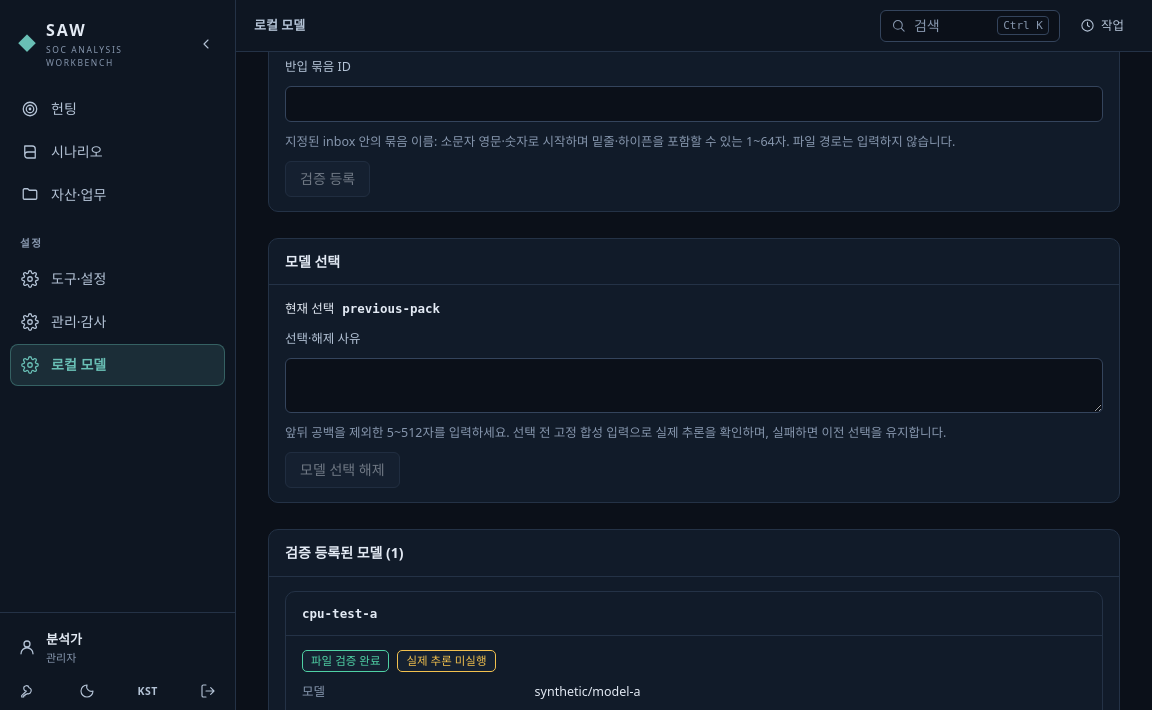
it: keeps the previous selection when the activation probe is rejected
(page scrolled)
expect the text "cpu-test-a" is shown: met, box [302, 606, 377, 621]
Type "실패 경로 확인" into the text box labelled "선택·해제 사유" at (694, 386), box [285, 358, 1103, 413]
(page scrolled)
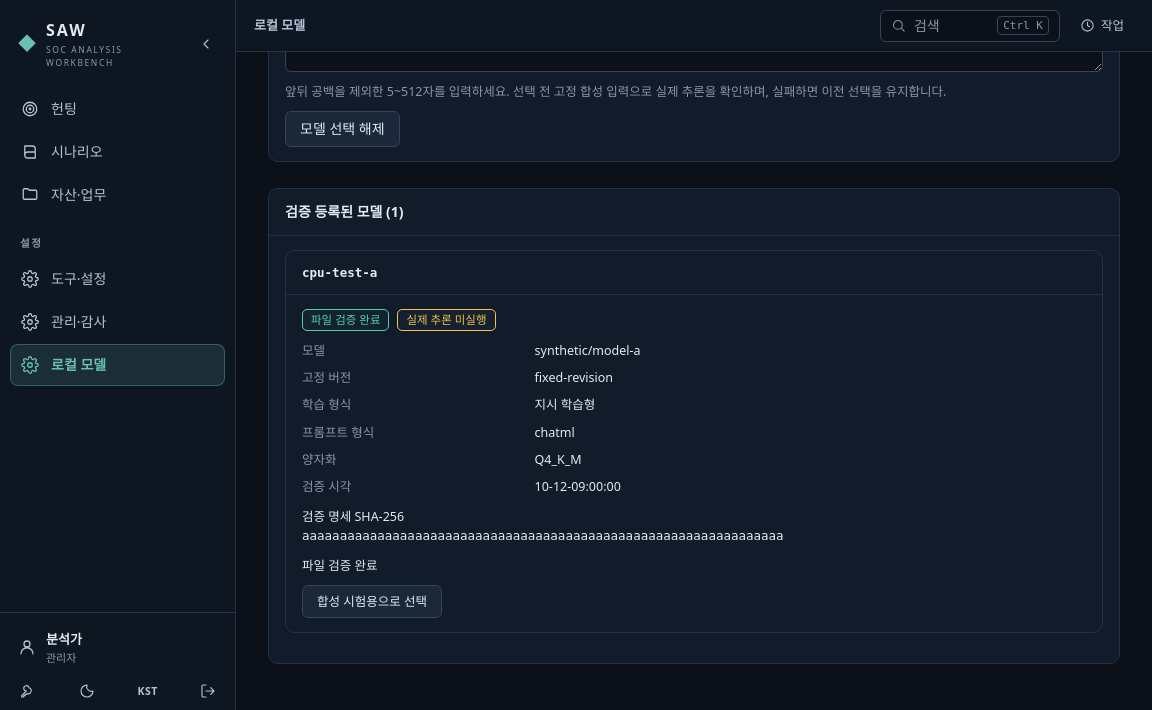
Click the button "합성 시험용으로 선택" at (372, 602), box [302, 585, 442, 618]
(page scrolled)
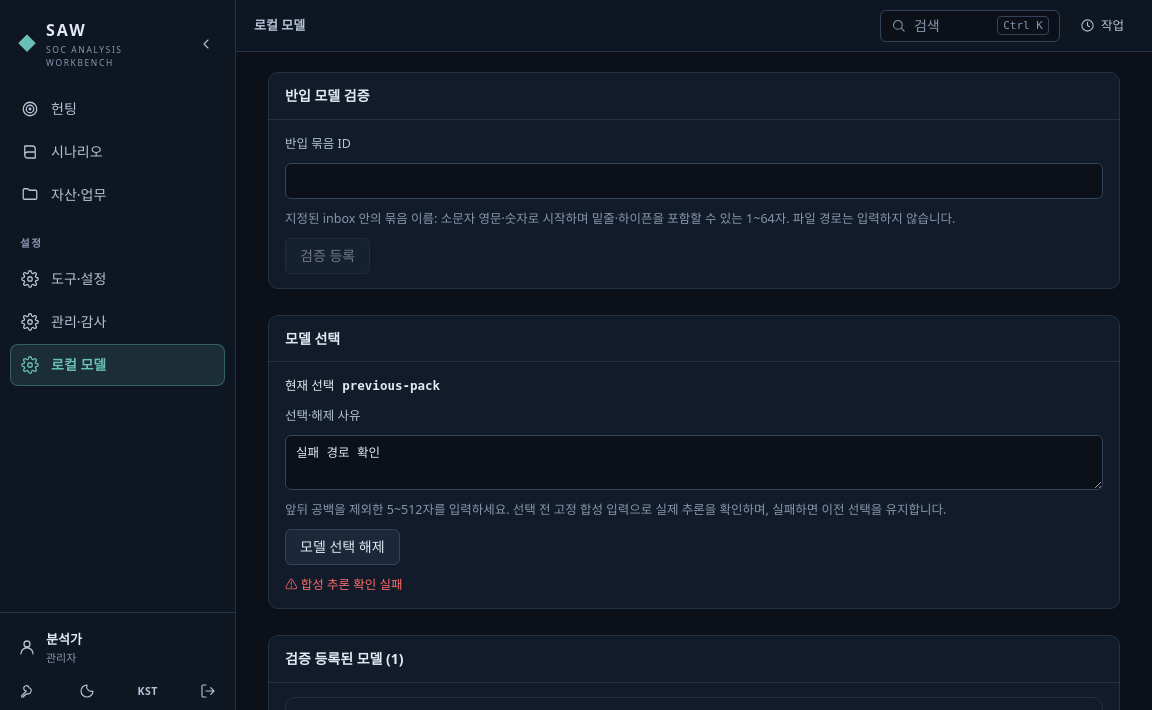
expect the text "previous-pack" is shown: met, box [342, 376, 440, 396]
